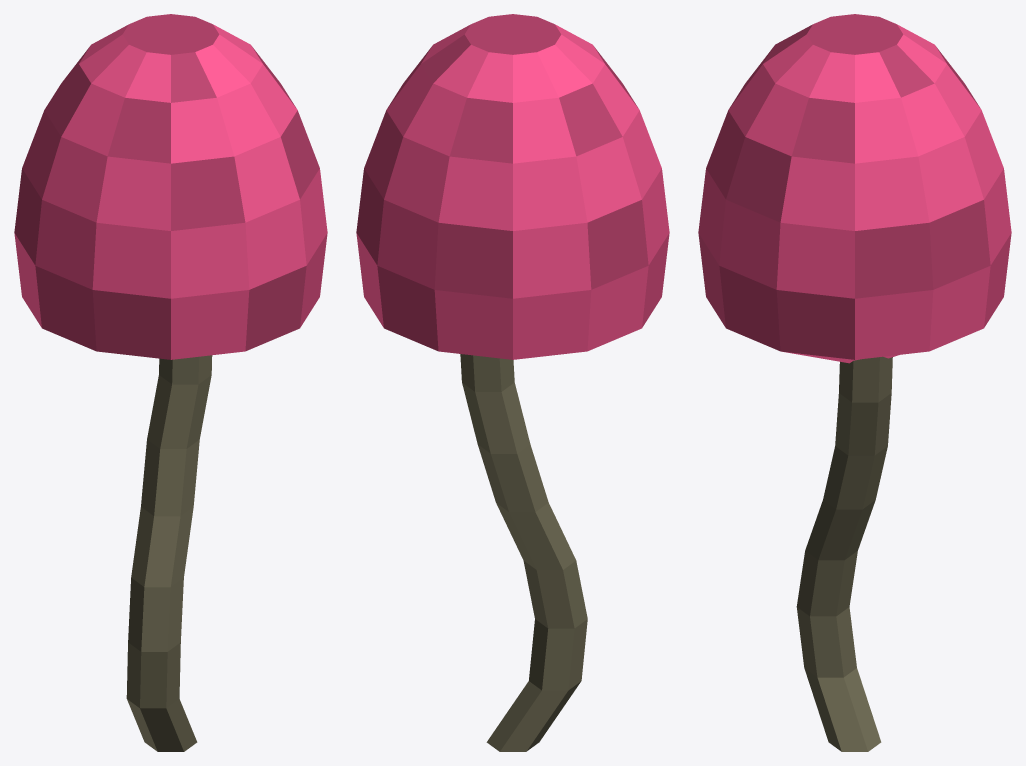
Rendered from Mushroom_2_Pink.fbx.
3 renders of one model, left to right at view 1: azimuth 30°, elevation 25°; view 2: azimuth 150°, elevation 25°; view 3: azimuth 270°, elevation 25°, orthographic.
Visible parts, largest first — view 1: Mushroom_2_Pink; view 2: Mushroom_2_Pink; view 3: Mushroom_2_Pink.
Part boxes in pixels (x1,y1,x2,y2): Mushroom_2_Pink: (14,14,327,751); Mushroom_2_Pink: (356,14,669,751); Mushroom_2_Pink: (698,14,1011,751).
Bounding box in the file's own units: 11.86 × 29.58 × 11.86.
